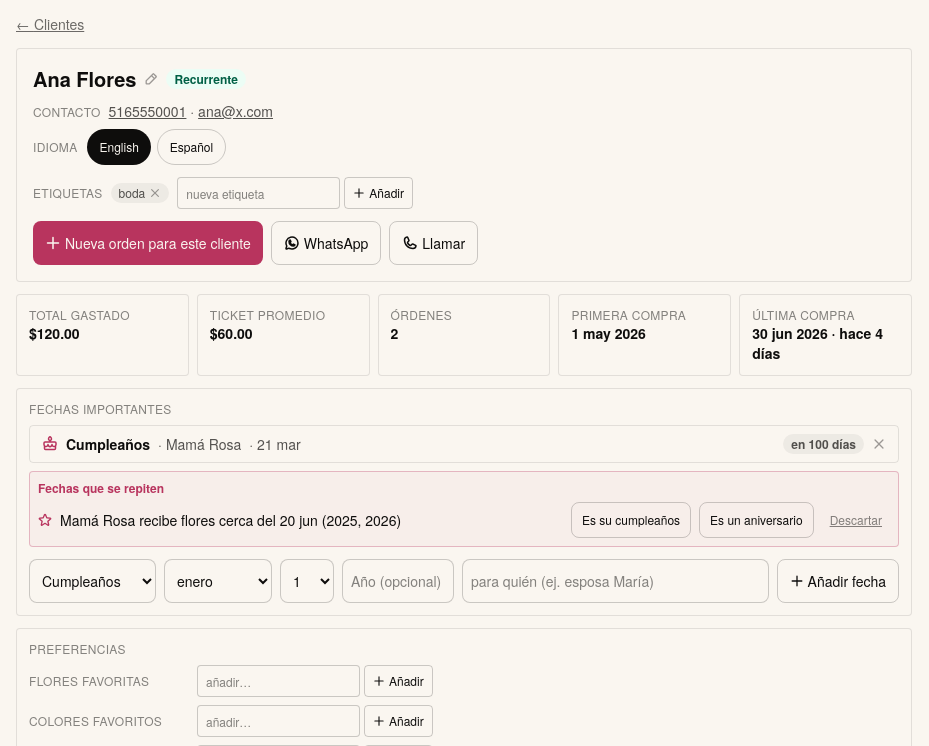
Test: CustomerProfile › renaming a customer › cancels without touching the record
The image size is (929, 746).
Step 1. Click the button named "Editar nombre" → (152, 79), box [144,72,158,86]
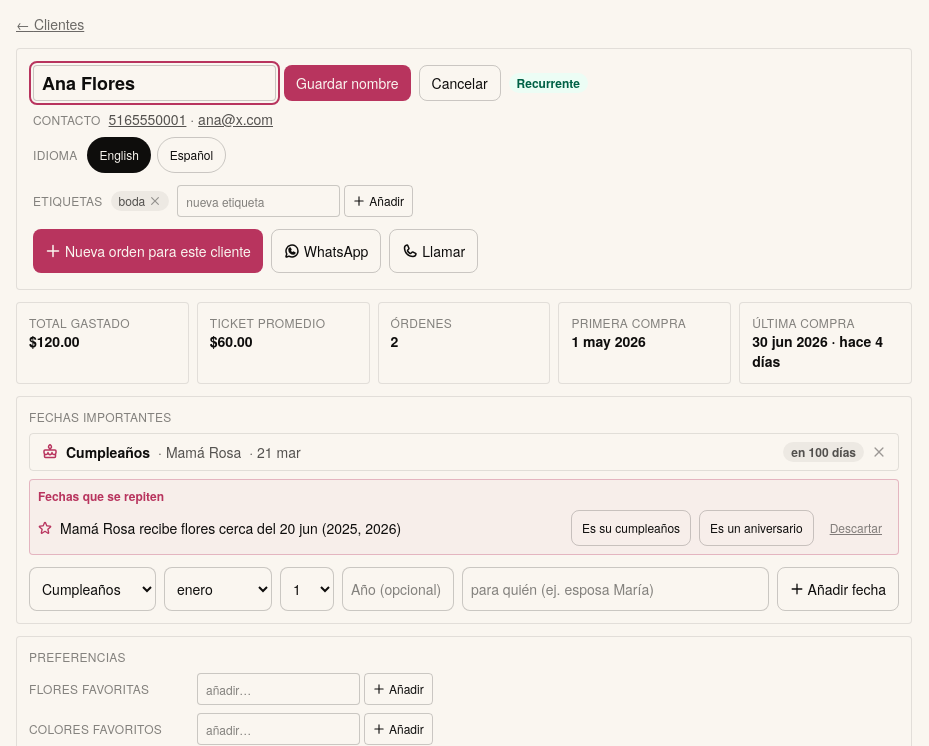
Step 2. Replace the text in the field named "Nombre" with "Equivocado" → (154, 83), box [33,65,276,101]
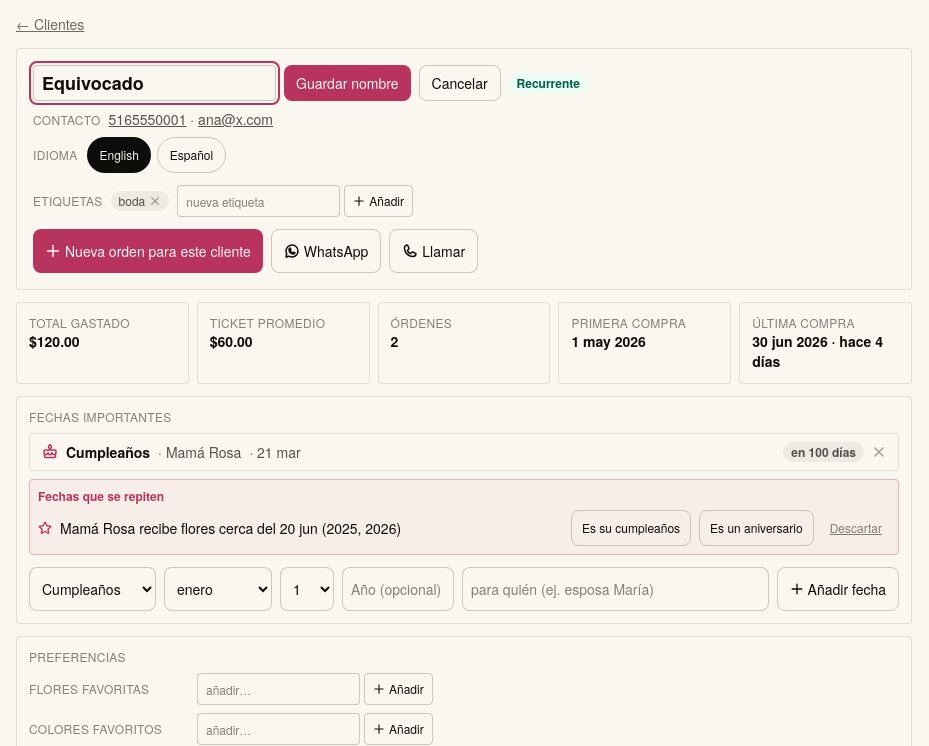
Step 3. Click the button "Cancelar" → (460, 83), box [419,65,501,101]
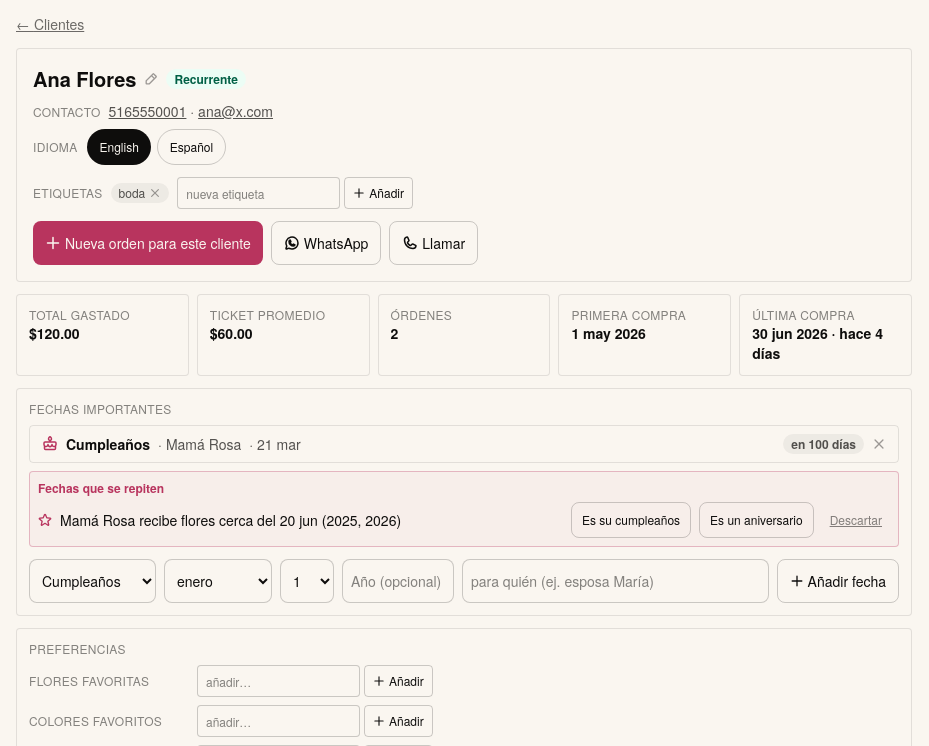
Now the heading "Ana Flores" is shown, box [33,65,136,93]
